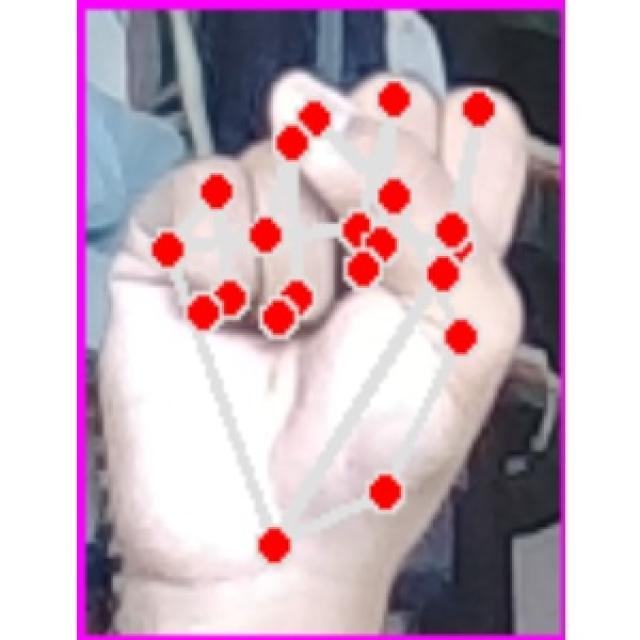S: (100, 52, 557, 593)
